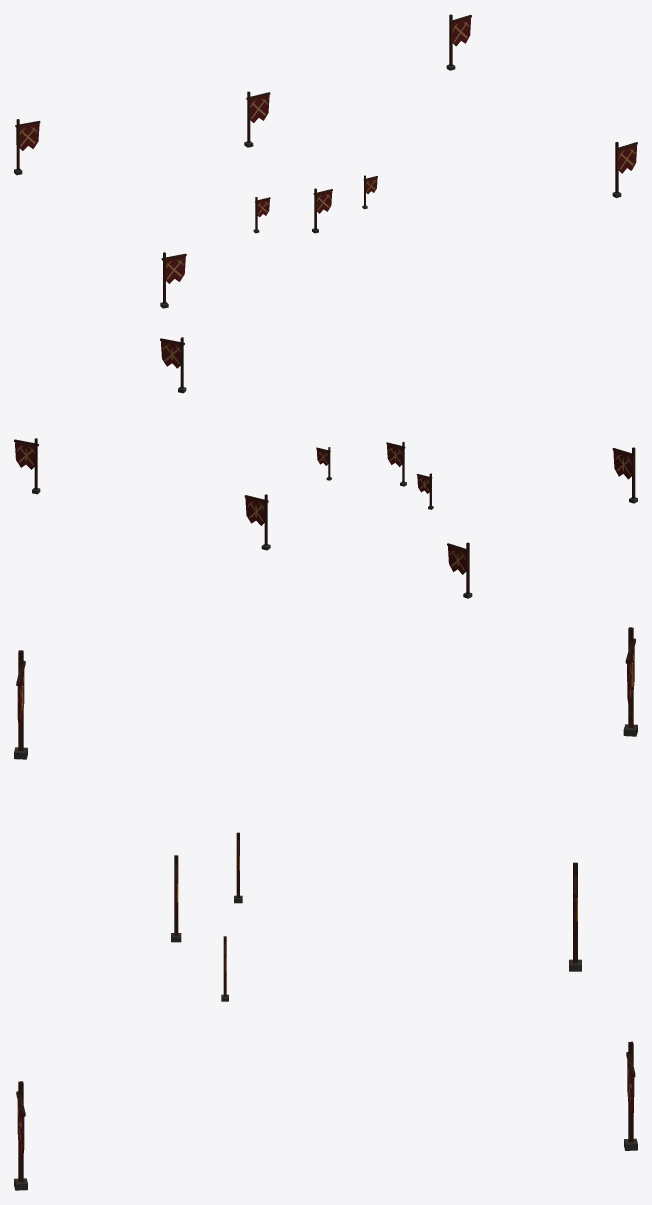
Rendered from oxblood_banners.glb.
3 renders of one model, top to bottom at view 1: azimuth 30°, elevation 25°; view 2: azimuth 150°, elevation 25°; view 3: azimuth 270°, elevation 25°, orthographic. The views are drawn at different scales.
Parts seen in each view (by area): view 1: oxblood_banners; view 2: oxblood_banners; view 3: oxblood_banners.
Boxes of the visible parts, left/top/right/bottom form: oxblood_banners: left=14, top=14, right=637, bottom=308; oxblood_banners: left=14, top=337, right=637, bottom=598; oxblood_banners: left=14, top=627, right=637, bottom=1190.
Bounding box in the file's own units: 48.47 × 7.07 × 28.14.
1 material, 1 textured.
